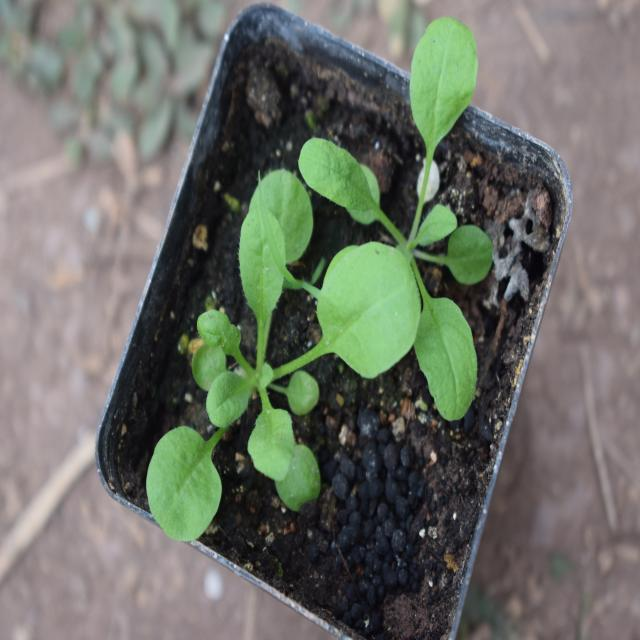Shepherd_Purse: (147, 206, 430, 535), (316, 20, 492, 419)
